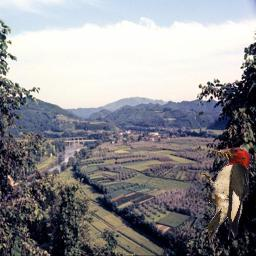Woodpecker: (201, 147, 250, 242)
